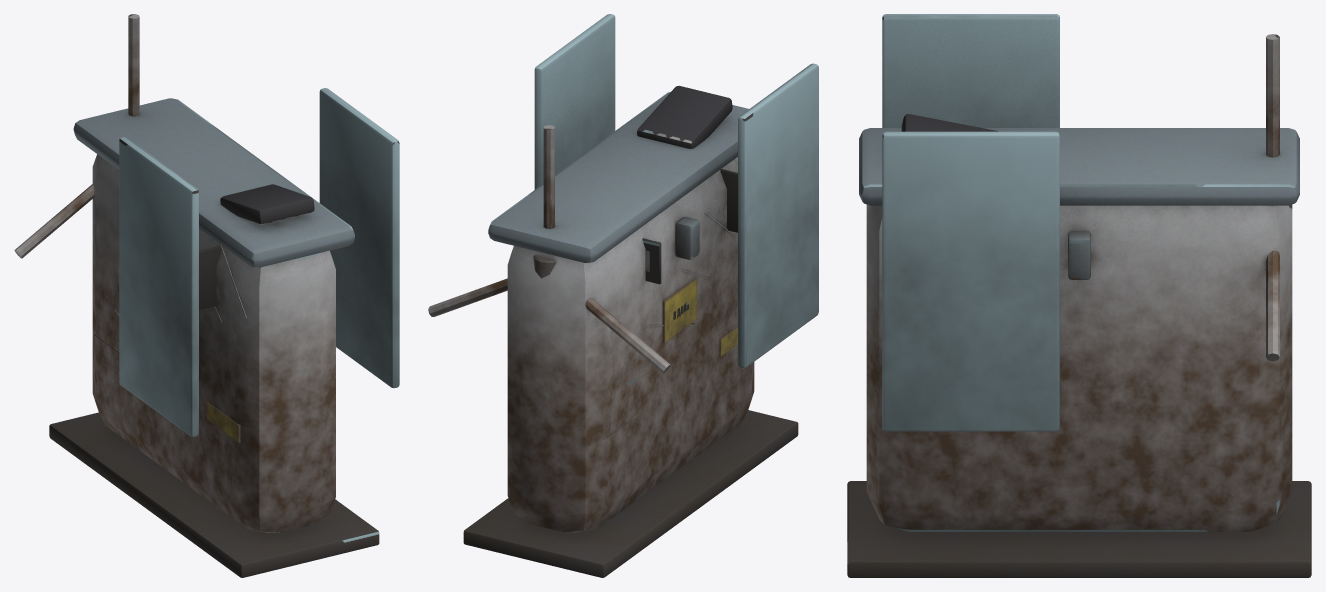
Rendered from g67_pz_turnstile.glb.
The picture shows the model from 3 angles, left to right: view 1: azimuth 30°, elevation 25°; view 2: azimuth 150°, elevation 25°; view 3: azimuth 270°, elevation 25°; orthographic projection. The views are drawn at different scales.
Visible parts, largest first — view 1: g67_pz_turnstile, turnstile_gate, turnstile_gate.001, turnstile_arm, turnstile_arm.002; view 2: g67_pz_turnstile, turnstile_gate, turnstile_gate.001, turnstile_arm.002, turnstile_arm, turnstile_arm.001; view 3: g67_pz_turnstile, turnstile_gate.001, turnstile_gate, turnstile_arm, turnstile_arm.001.
Boxes of the visible parts, x1=… form: g67_pz_turnstile: x1=49, y1=98, x2=379, y2=577; turnstile_gate: x1=119, y1=137, x2=198, y2=436; turnstile_gate.001: x1=319, y1=88, x2=399, y2=388; turnstile_arm: x1=128, y1=14, x2=139, y2=116; turnstile_arm.002: x1=14, y1=184, x2=94, y2=258; g67_pz_turnstile: x1=463, y1=85, x2=798, y2=577; turnstile_gate: x1=738, y1=63, x2=818, y2=368; turnstile_gate.001: x1=534, y1=14, x2=615, y2=189; turnstile_arm.002: x1=585, y1=298, x2=670, y2=373; turnstile_arm: x1=543, y1=125, x2=554, y2=228; turnstile_arm.001: x1=428, y1=278, x2=507, y2=316; g67_pz_turnstile: x1=847, y1=114, x2=1311, y2=577; turnstile_gate.001: x1=882, y1=131, x2=1059, y2=431; turnstile_gate: x1=882, y1=14, x2=1059, y2=127; turnstile_arm: x1=1266, y1=34, x2=1279, y2=157; turnstile_arm.001: x1=1266, y1=251, x2=1279, y2=361.
Bounding box in the file's own units: 0.8494 × 1.43 × 1.2.
Materials: 1 (1 with a texture image).
